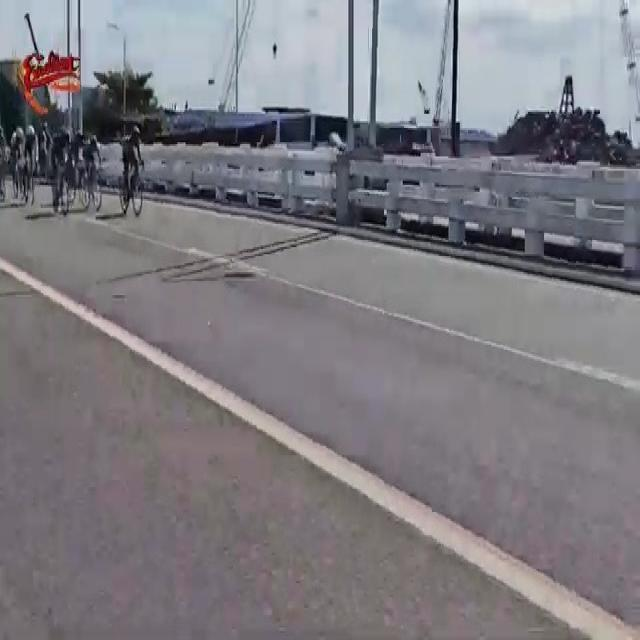bike: (118, 124, 146, 221), (78, 136, 105, 213), (50, 128, 68, 218), (23, 124, 38, 203), (10, 125, 24, 198), (64, 138, 76, 208), (0, 126, 8, 203)
